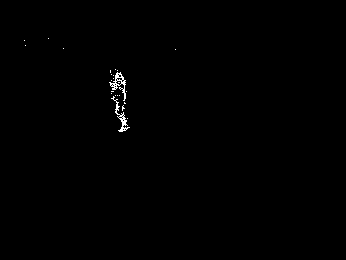person: (108, 69, 131, 135)
